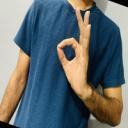hand: (56, 7, 93, 101)
